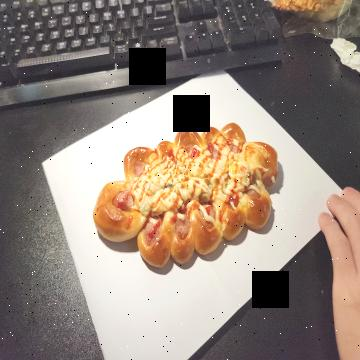pizza_bread: (93, 124, 279, 270)
